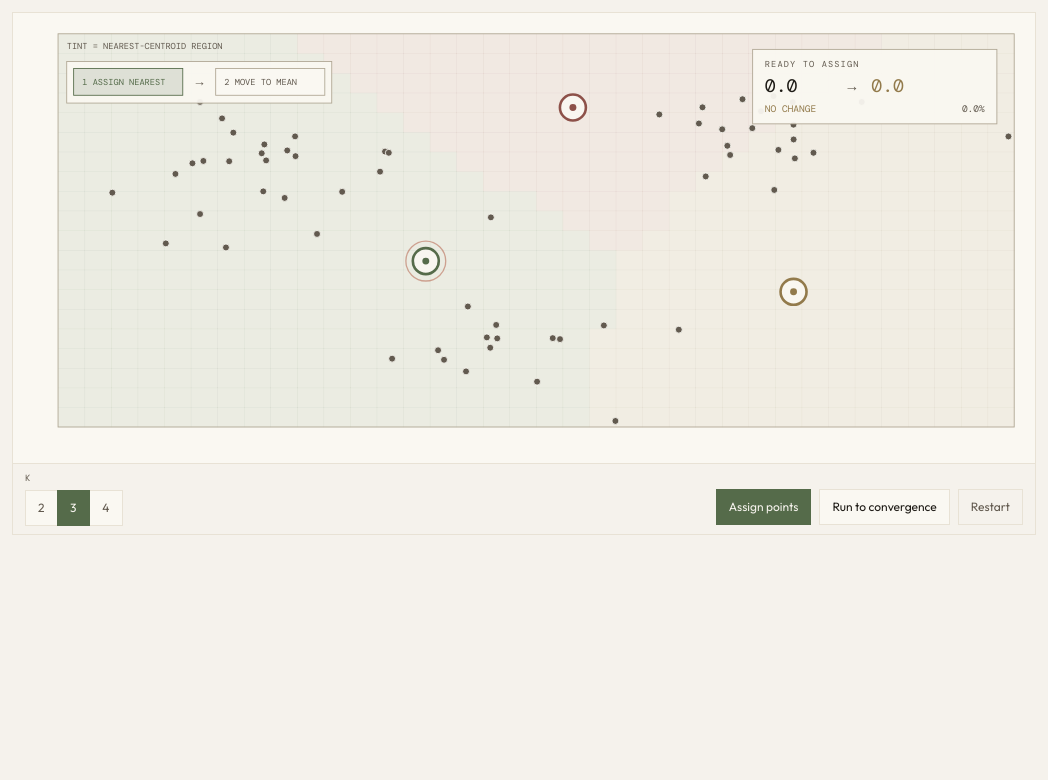
Test: KMeansScene › alternates the phase button and updates the live status as phases run
The width and height of the screenshot is (1048, 780).
Click the button "Assign points" at (764, 507), box [716, 489, 811, 525]
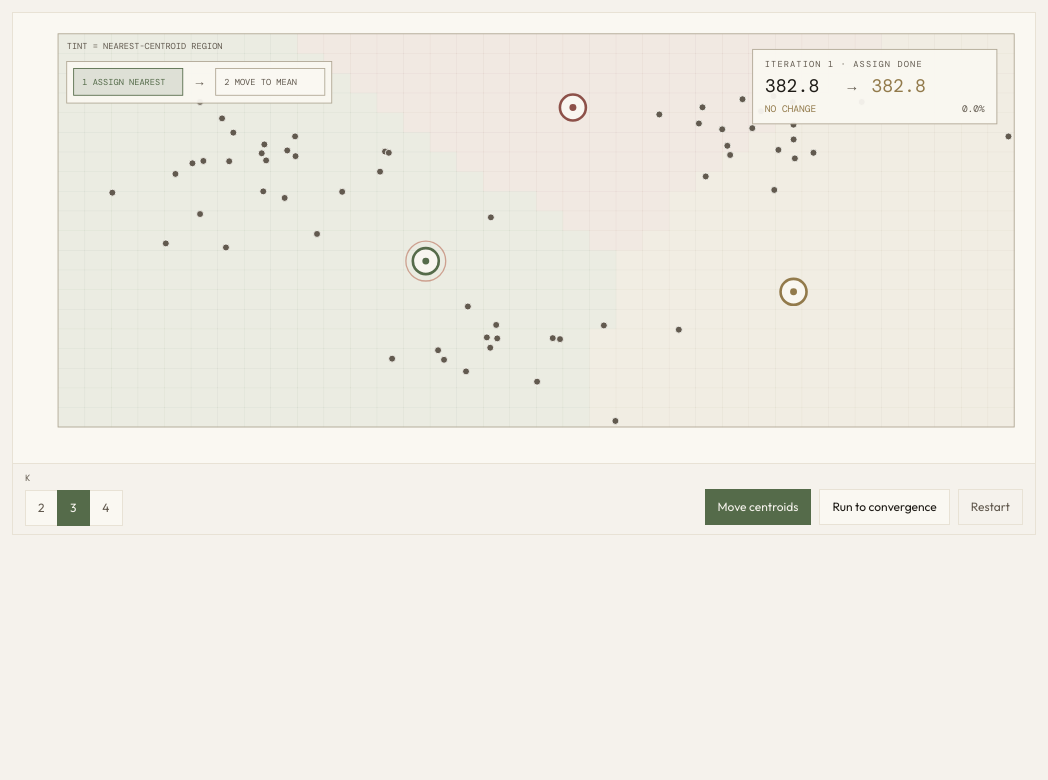
expect the button "Move centroids" is shown: met
Click the button "Move centroids" at (758, 507), box [704, 489, 811, 525]
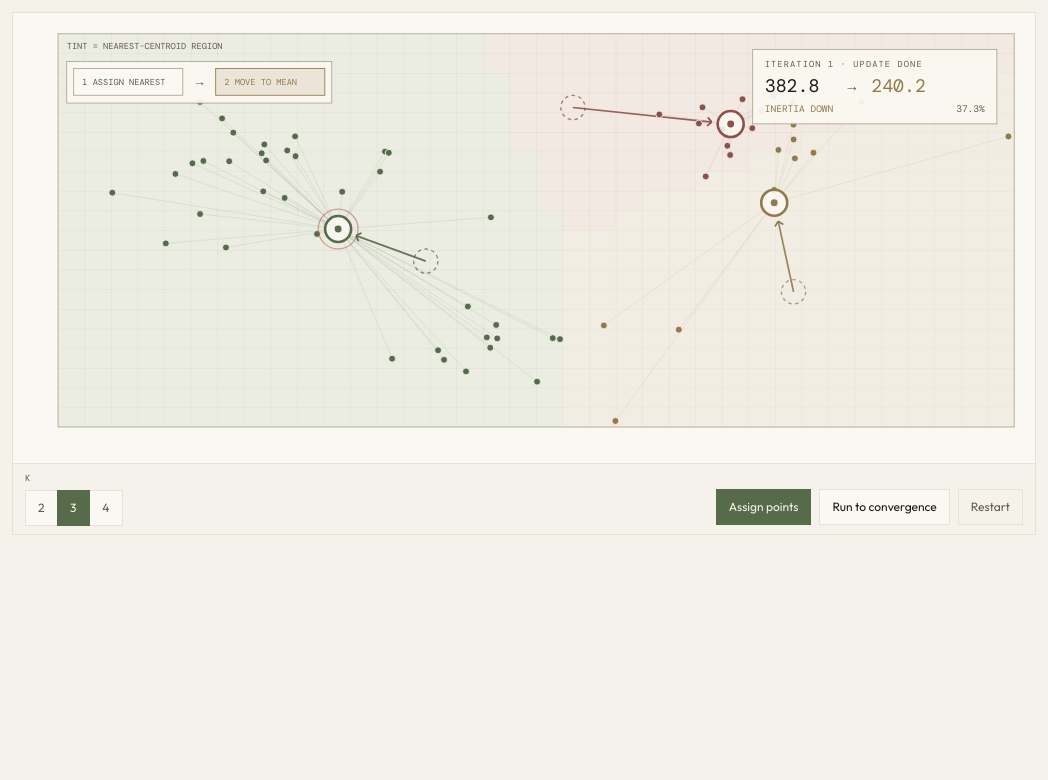
expect the button "Assign points" is shown: met, box [716, 489, 811, 525]
